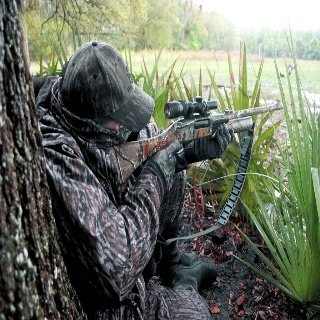rifle: (106, 97, 284, 184)
